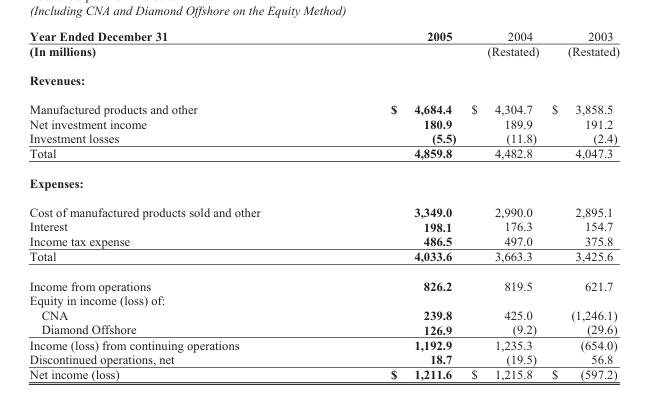table: (28, 28, 618, 381)
table column: (28, 28, 324, 381), (324, 28, 462, 381), (462, 28, 544, 381), (544, 28, 618, 381)
table column header: (28, 28, 618, 65)
table projected row header: (28, 65, 618, 94), (28, 168, 618, 197), (28, 292, 618, 307)
table row: (28, 28, 618, 65), (28, 65, 618, 94), (28, 168, 618, 197), (28, 145, 618, 168), (28, 94, 618, 116), (28, 197, 618, 219), (28, 248, 618, 270), (28, 270, 618, 292), (28, 130, 618, 145), (28, 233, 618, 248), (28, 292, 618, 307), (28, 321, 618, 336), (28, 336, 618, 351), (28, 351, 618, 366), (28, 366, 618, 381), (28, 116, 618, 130), (28, 219, 618, 233), (28, 307, 618, 321)
